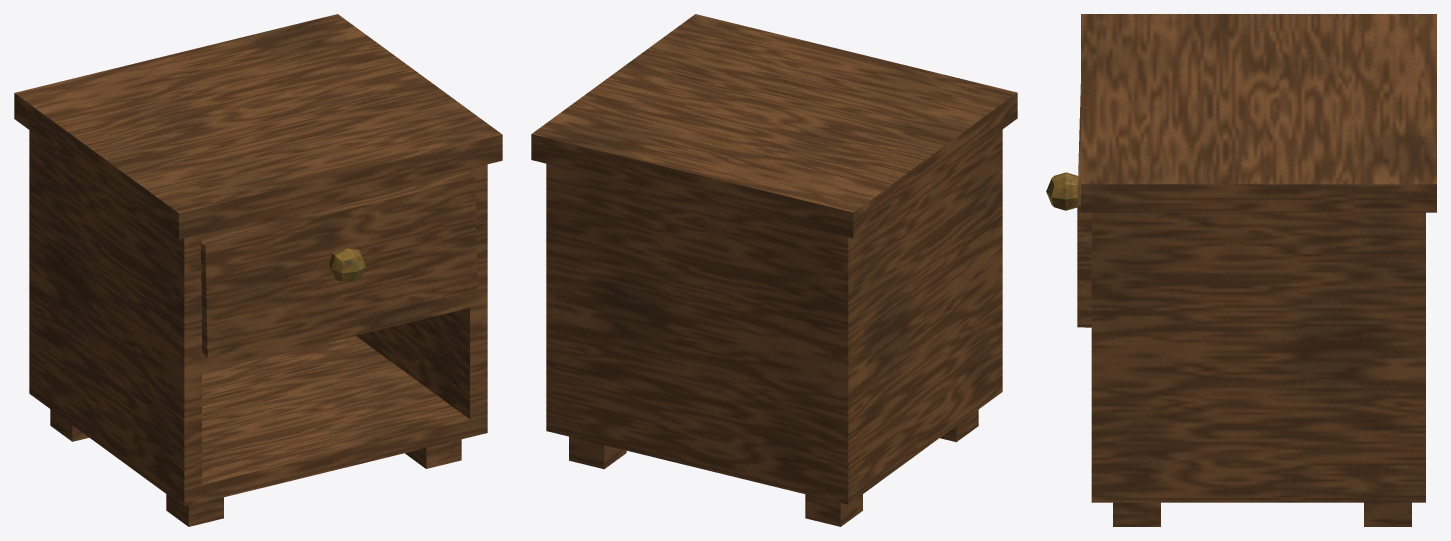
Rendered from NightStandSet.fbx.
3 views of the same model, side by side, from view 1: azimuth 30°, elevation 25°; view 2: azimuth 150°, elevation 25°; view 3: azimuth 270°, elevation 25° (orthographic). The views are drawn at different scales.
Visible parts, largest first — view 1: NightStand.003, NightStand, NightStandDraw01, NightStand.002, NightStandDraw; view 2: NightStand.003, NightStand, NightStand.001; view 3: NightStand.003, NightStand, NightStandDraw01, NightStand.001, NightStand.002, NightStandDraw.
Boxes of the visible parts, x1,y1,x2,y2 form: NightStand.003: (29,130,487,506); NightStand: (14,14,502,239); NightStandDraw01: (200,172,477,357); NightStand.002: (166,439,461,526); NightStandDraw: (329,248,365,282); NightStand.003: (546,129,1002,504); NightStand: (531,14,1017,238); NightStand.001: (569,436,862,526); NightStand.003: (1091,212,1425,502); NightStand: (1081,14,1436,212); NightStandDraw01: (1077,84,1091,327); NightStand.001: (1364,502,1411,526); NightStand.002: (1113,502,1160,526); NightStandDraw: (1046,172,1077,210).
Size of the model in its own units: 0.6226 by 0.6072 by 0.6032.
2 materials, 2 textured.
